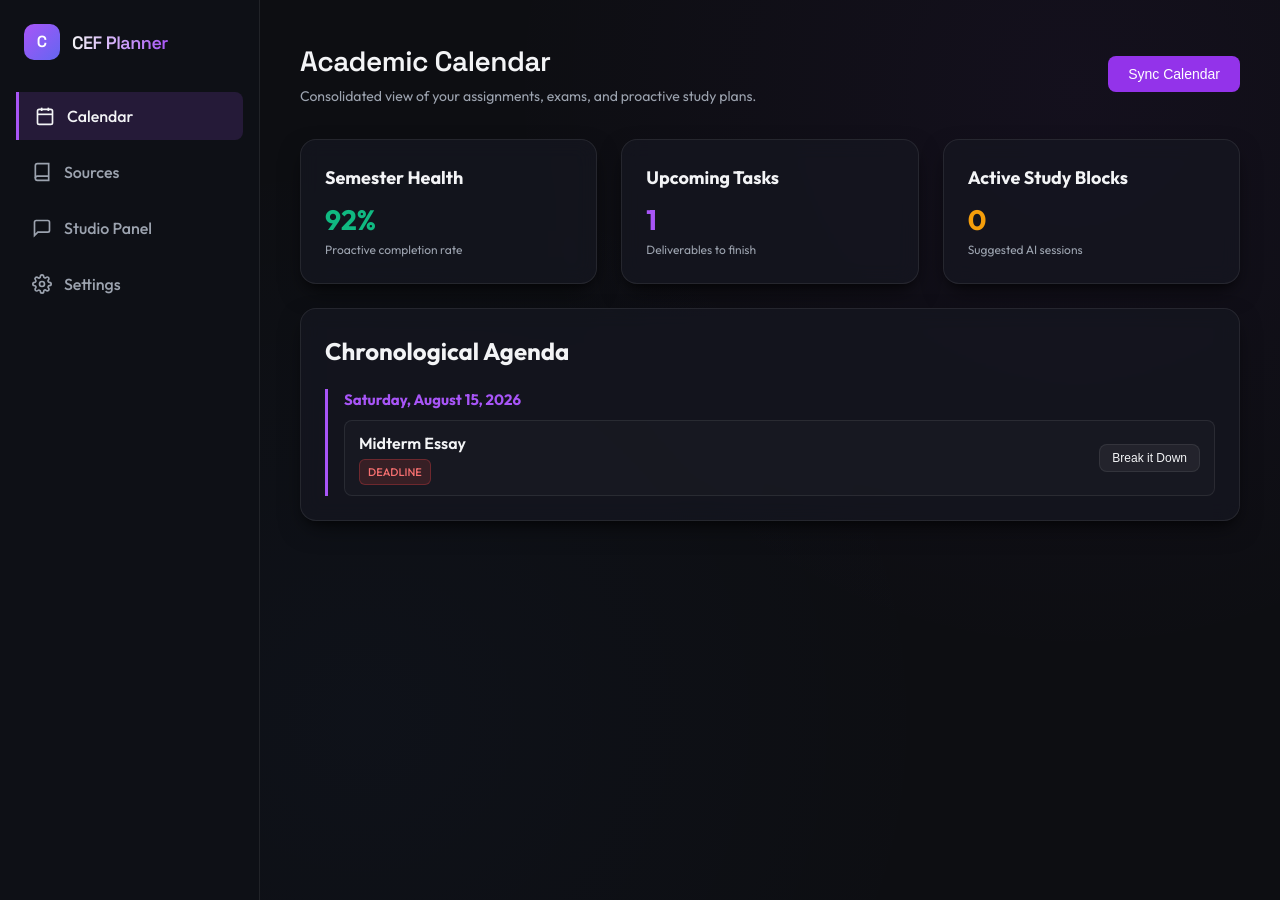
Test case: Task decomposition modal — open state › has no axe violations
Check: the heading "Academic Calendar" is shown, box x1=300 y1=43 x2=551 y2=79
Click the button "Break it Down": [1150, 458] box x1=1099 y1=444 x2=1200 y2=472
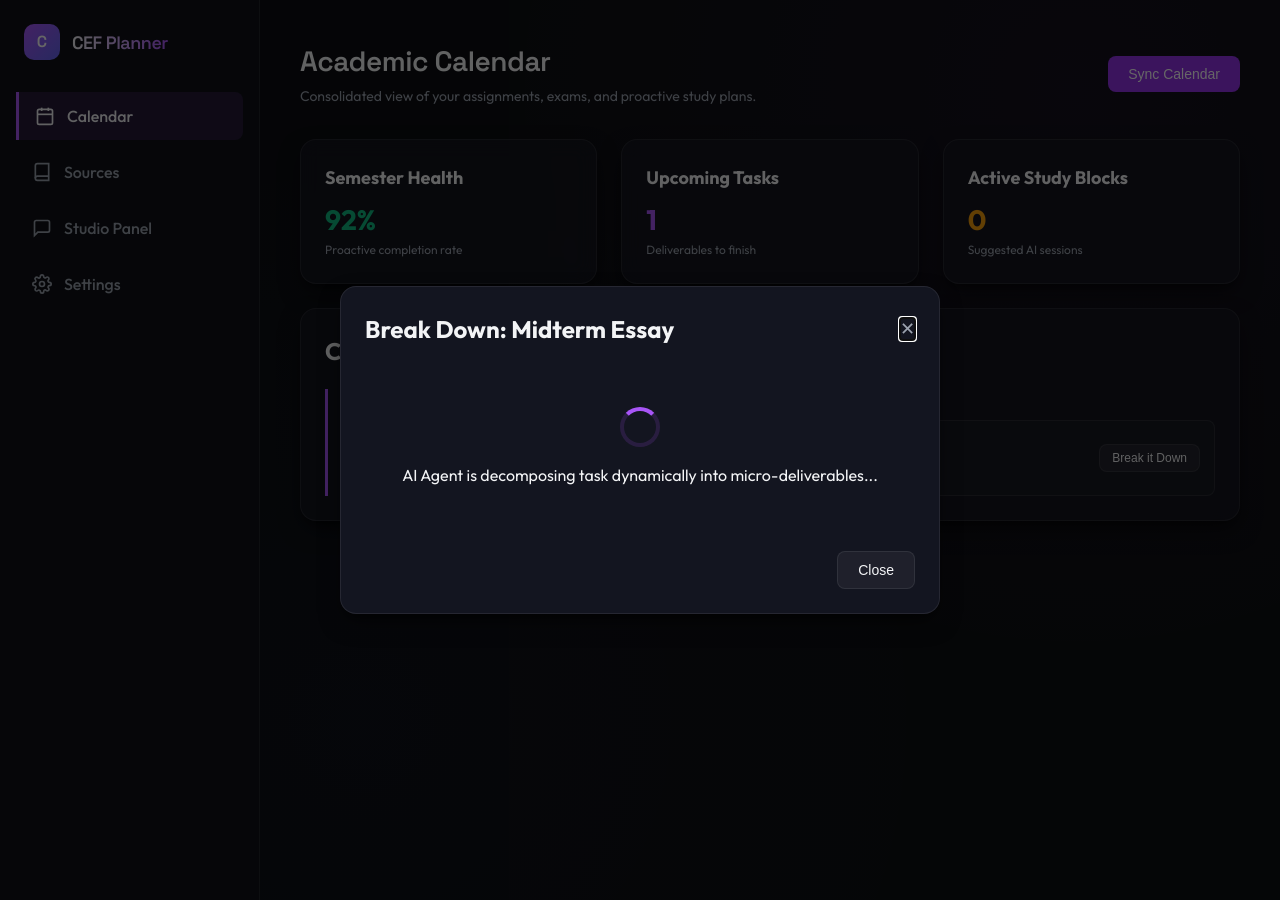
Check: the heading "Break Down: Midterm Essay" is shown, box x1=365 y1=311 x2=674 y2=347
